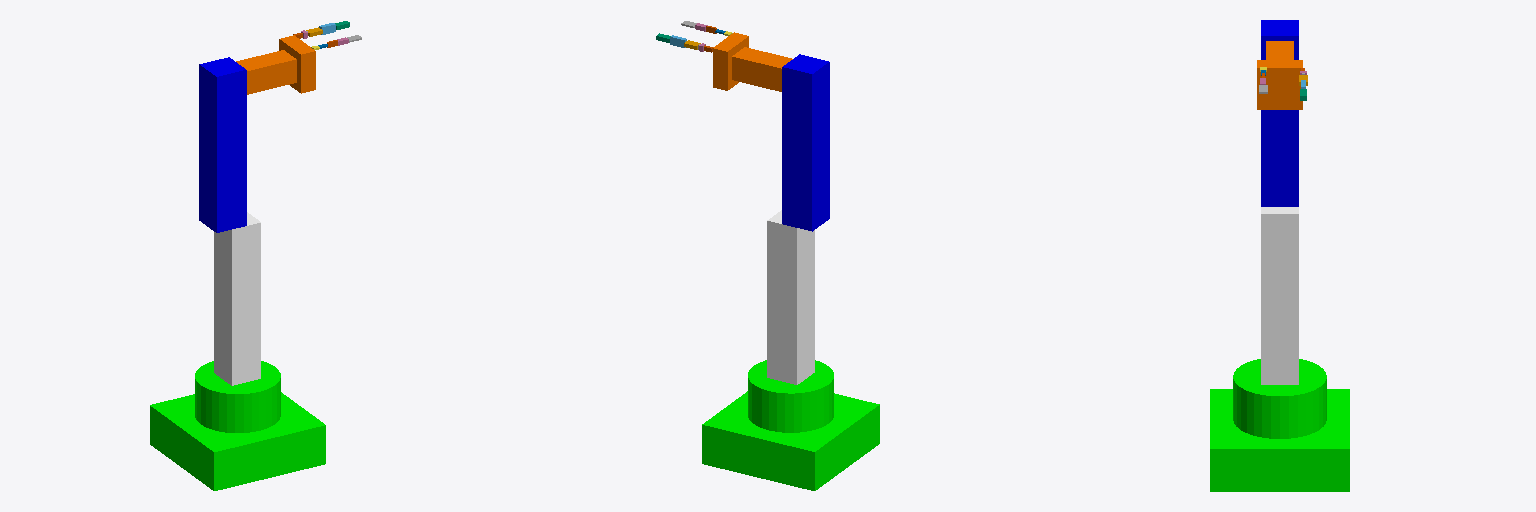
URDF robot description (robot):
<?xml version='1.0' encoding='utf-8'?>
<robot name="robot">
  <link name="base_link">
    <visual>
      <origin xyz="0 0 0.125" rpy="0 0 0" />
      <geometry>
        <box size="0.75 0.75 0.25" />
      </geometry>
      <material name="green" />
    </visual>
    <visual>
      <origin xyz="0 0 0.375" rpy="0 0 0" />
      <geometry>
        <cylinder length="0.25" radius="0.25" />
      </geometry>
      <material name="green">
        <color rgba="0 1 0 1" />
      </material>
    </visual>
    <collision>
      <geometry>
        <box size="0.75 0.75 0.5" />
      </geometry>
    </collision>
    <inertial>
      <mass value="0.5" />
      <inertia ixx="0.034" ixy="0.0" ixz="0.0" iyy="0.034" iyz="0.0" izz="0.034" />
    </inertial>
  </link>
  <link name="support_link">
    <visual>
      <origin xyz="0 0 0.5" rpy="0 0 0" />
      <geometry>
        <box size="0.2 0.2 1" />
      </geometry>
      <material name="white">
        <color rgba="1 1 1 1" />
      </material>
    </visual>
    <collision>
      <geometry>
        <box size="0.2 0.2 1" />
      </geometry>
    </collision>
    <inertial>
      <mass value="0.1" />
      <inertia ixx="0.01" ixy="0.0" ixz="0.0" iyy="0.01" iyz="0.0" izz="0.01" />
    </inertial>
  </link>
  <joint name="support_joint" type="continuous">
    <origin xyz="0 0 0.5" rpy="0 0 0" />
    <parent link="base_link" />
    <child link="support_link" />
    <axis xyz="0 0 1" />
  </joint>
  <link name="arm_link">
    <visual>
      <origin xyz="0 0 0.5" rpy="0 0 0" />
      <geometry>
        <box size="0.2 0.2 1" />
      </geometry>
      <material name="blue">
        <color rgba="0 0 1 1" />
      </material>
    </visual>
    <collision>
      <geometry>
        <box size="0.2 0.2 1" />
      </geometry>
    </collision>
    <inertial>
      <mass value="0.1" />
      <inertia ixx="0.01" ixy="0.0" ixz="0.0" iyy="0.01" iyz="0.0" izz="0.01" />
    </inertial>
  </link>
  <joint name="arm_joint" type="revolute">
    <origin xyz="-0.1 0 1" rpy="0 0 0" />
    <parent link="support_link" />
    <child link="arm_link" />
    <axis xyz="0 1 0" />
    <limit lower="-3.14" upper="3.14" effort="1.0" velocity="1.0" />
  </joint>
  <link name="wrist_link">
    <visual>
      <origin xyz="0 0 0.25" rpy="0 0 0" />
      <geometry>
        <box size="0.15 0.15 0.5" />
      </geometry>
      <material name="orange">
        <color rgba="1 0.5 0 1" />
      </material>
    </visual>
    <collision>
      <geometry>
        <box size="0.15 0.15 0.5" />
      </geometry>
    </collision>
    <inertial>
      <mass value="0.1" />
      <inertia ixx="0.01" ixy="0.0" ixz="0.0" iyy="0.01" iyz="0.0" izz="0.01" />
    </inertial>
  </link>
  <joint name="wrist_joint" type="fixed">
    <origin xyz="0 0 0.9" rpy="0 1.571 0" />
    <parent link="arm_link" />
    <child link="wrist_link" />
  </joint>
  <link name="palm_link">
    <visual>
      <origin xyz="0 0 0.05" rpy="0 0 0" />
      <geometry>
        <box size="0.25 0.25 0.1" />
      </geometry>
      <material name="orange" />
    </visual>
    <collision>
      <geometry>
        <box size="0.25 0.25 0.1" />
      </geometry>
    </collision>
    <inertial>
      <mass value="0.1" />
      <inertia ixx="0.01" ixy="0.0" ixz="0.0" iyy="0.01" iyz="0.0" izz="0.01" />
    </inertial>
  </link>
  <joint name="palm_joint" type="fixed">
    <origin xyz="0 0 0.45" rpy="0 0 0" />
    <parent link="wrist_link" />
    <child link="palm_link" />
  </joint>
  <link name="finger_link_0_0">
    <visual>
      <origin xyz="0 0 0.0265" rpy="0 0 0" />
      <geometry>
        <box size="0.026 0.021 0.053" />
      </geometry>
    </visual>
    <collision>
      <geometry>
        <box size="0.026 0.021 0.053" />
      </geometry>
    </collision>
    <inertial>
      <mass value="0.009" />
      <inertia ixx="0.0" iyy="0.0" izz="0.0" ixy="0" ixz="0" iyz="0" />
    </inertial>
  </link>
  <joint name="finger_joint_palm_link_to_finger_link_0_0" type="revolute">
    <origin xyz="-0.113 0.125 0.1" rpy="0 0 0" />
    <parent link="palm_link" />
    <child link="finger_link_0_0" />
    <axis xyz="-1.0 0.0 0.0" />
    <limit lower="-3.142" upper="3.142" effort="10" velocity="10" />
  </joint>
  <link name="finger_link_0_1">
    <visual>
      <origin xyz="0 0 0.0125" rpy="0 0 0" />
      <geometry>
        <box size="0.037 0.038 0.025" />
      </geometry>
    </visual>
    <collision>
      <geometry>
        <box size="0.037 0.038 0.025" />
      </geometry>
    </collision>
    <inertial>
      <mass value="0.011" />
      <inertia ixx="0.0" iyy="0.0" izz="0.0" ixy="0" ixz="0" iyz="0" />
    </inertial>
  </link>
  <joint name="finger_joint_finger_link_0_0_to_finger_link_0_1" type="revolute">
    <origin xyz="0.0 0.0 0.053" rpy="0 0 0" />
    <parent link="finger_link_0_0" />
    <child link="finger_link_0_1" />
    <axis xyz="1.0 0.0 0.0" />
    <limit lower="-3.142" upper="3.142" effort="10" velocity="10" />
  </joint>
  <link name="finger_link_0_2">
    <visual>
      <origin xyz="0 0 0.0055" rpy="0 0 0" />
      <geometry>
        <box size="0.033 0.019 0.011" />
      </geometry>
    </visual>
    <collision>
      <geometry>
        <box size="0.033 0.019 0.011" />
      </geometry>
    </collision>
    <inertial>
      <mass value="0.002" />
      <inertia ixx="0.0" iyy="0.0" izz="0.0" ixy="0" ixz="0" iyz="0" />
    </inertial>
  </link>
  <joint name="finger_joint_finger_link_0_1_to_finger_link_0_2" type="revolute">
    <origin xyz="0.0 0.0 0.025" rpy="0 0 0" />
    <parent link="finger_link_0_1" />
    <child link="finger_link_0_2" />
    <axis xyz="0.0 1.0 0.0" />
    <limit lower="-3.142" upper="3.142" effort="10" velocity="10" />
  </joint>
  <link name="finger_link_0_3">
    <visual>
      <origin xyz="0 0 0.0435" rpy="0 0 0" />
      <geometry>
        <box size="0.024 0.049 0.087" />
      </geometry>
    </visual>
    <collision>
      <geometry>
        <box size="0.024 0.049 0.087" />
      </geometry>
    </collision>
    <inertial>
      <mass value="0.031" />
      <inertia ixx="0.0" iyy="0.0" izz="0.0" ixy="0" ixz="0" iyz="0" />
    </inertial>
  </link>
  <joint name="finger_joint_finger_link_0_2_to_finger_link_0_3" type="revolute">
    <origin xyz="0.0 0.0 0.011" rpy="0 0 0" />
    <parent link="finger_link_0_2" />
    <child link="finger_link_0_3" />
    <axis xyz="0.0 1.0 0.0" />
    <limit lower="-3.142" upper="3.142" effort="10" velocity="10" />
  </joint>
  <link name="finger_link_0_4">
    <visual>
      <origin xyz="0 0 0.0485" rpy="0 0 0" />
      <geometry>
        <box size="0.05 0.027 0.097" />
      </geometry>
    </visual>
    <collision>
      <geometry>
        <box size="0.05 0.027 0.097" />
      </geometry>
    </collision>
    <inertial>
      <mass value="0.039" />
      <inertia ixx="0.0" iyy="0.0" izz="0.0" ixy="0" ixz="0" iyz="0" />
    </inertial>
  </link>
  <joint name="finger_joint_finger_link_0_3_to_finger_link_0_4" type="revolute">
    <origin xyz="0.0 0.0 0.087" rpy="0 0 0" />
    <parent link="finger_link_0_3" />
    <child link="finger_link_0_4" />
    <axis xyz="0.0 1.0 0.0" />
    <limit lower="-3.142" upper="3.142" effort="10" velocity="10" />
  </joint>
  <link name="finger_link_0_5">
    <visual>
      <origin xyz="0 0 0.0455" rpy="0 0 0" />
      <geometry>
        <box size="0.027 0.04 0.091" />
      </geometry>
    </visual>
    <collision>
      <geometry>
        <box size="0.027 0.04 0.091" />
      </geometry>
    </collision>
    <inertial>
      <mass value="0.029" />
      <inertia ixx="0.0" iyy="0.0" izz="0.0" ixy="0" ixz="0" iyz="0" />
    </inertial>
  </link>
  <joint name="finger_joint_finger_link_0_4_to_finger_link_0_5" type="revolute">
    <origin xyz="0.0 0.0 0.097" rpy="0 0 0" />
    <parent link="finger_link_0_4" />
    <child link="finger_link_0_5" />
    <axis xyz="0.0 1.0 0.0" />
    <limit lower="-3.142" upper="3.142" effort="10" velocity="10" />
  </joint>
  <link name="finger_link_1_0">
    <visual>
      <origin xyz="0 0 0.0195" rpy="0 0 0" />
      <geometry>
        <box size="0.011 0.035 0.039" />
      </geometry>
    </visual>
    <collision>
      <geometry>
        <box size="0.011 0.035 0.039" />
      </geometry>
    </collision>
    <inertial>
      <mass value="0.005" />
      <inertia ixx="0.0" iyy="0.0" izz="0.0" ixy="0" ixz="0" iyz="0" />
    </inertial>
  </link>
  <joint name="finger_joint_palm_link_to_finger_link_1_0" type="revolute">
    <origin xyz="-0.125 -0.089 0.1" rpy="0 0 0" />
    <parent link="palm_link" />
    <child link="finger_link_1_0" />
    <axis xyz="0.0 -1.0 0.0" />
    <limit lower="-3.142" upper="3.142" effort="10" velocity="10" />
  </joint>
  <link name="finger_link_1_1">
    <visual>
      <origin xyz="0 0 0.029" rpy="0 0 0" />
      <geometry>
        <box size="0.011 0.027 0.058" />
      </geometry>
    </visual>
    <collision>
      <geometry>
        <box size="0.011 0.027 0.058" />
      </geometry>
    </collision>
    <inertial>
      <mass value="0.005" />
      <inertia ixx="0.0" iyy="0.0" izz="0.0" ixy="0" ixz="0" iyz="0" />
    </inertial>
  </link>
  <joint name="finger_joint_finger_link_1_0_to_finger_link_1_1" type="revolute">
    <origin xyz="0.0 0.0 0.039" rpy="0 0 0" />
    <parent link="finger_link_1_0" />
    <child link="finger_link_1_1" />
    <axis xyz="0.0 1.0 0.0" />
    <limit lower="-3.142" upper="3.142" effort="10" velocity="10" />
  </joint>
  <link name="finger_link_1_2">
    <visual>
      <origin xyz="0 0 0.0325" rpy="0 0 0" />
      <geometry>
        <box size="0.035 0.013 0.065" />
      </geometry>
    </visual>
    <collision>
      <geometry>
        <box size="0.035 0.013 0.065" />
      </geometry>
    </collision>
    <inertial>
      <mass value="0.009" />
      <inertia ixx="0.0" iyy="0.0" izz="0.0" ixy="0" ixz="0" iyz="0" />
    </inertial>
  </link>
  <joint name="finger_joint_finger_link_1_1_to_finger_link_1_2" type="revolute">
    <origin xyz="0.0 0.0 0.058" rpy="0 0 0" />
    <parent link="finger_link_1_1" />
    <child link="finger_link_1_2" />
    <axis xyz="1.0 0.0 0.0" />
    <limit lower="-3.142" upper="3.142" effort="10" velocity="10" />
  </joint>
  <link name="finger_link_1_3">
    <visual>
      <origin xyz="0 0 0.0345" rpy="0 0 0" />
      <geometry>
        <box size="0.027 0.032 0.069" />
      </geometry>
    </visual>
    <collision>
      <geometry>
        <box size="0.027 0.032 0.069" />
      </geometry>
    </collision>
    <inertial>
      <mass value="0.018" />
      <inertia ixx="0.0" iyy="0.0" izz="0.0" ixy="0" ixz="0" iyz="0" />
    </inertial>
  </link>
  <joint name="finger_joint_finger_link_1_2_to_finger_link_1_3" type="revolute">
    <origin xyz="0.0 0.0 0.065" rpy="0 0 0" />
    <parent link="finger_link_1_2" />
    <child link="finger_link_1_3" />
    <axis xyz="0.0 1.0 0.0" />
    <limit lower="-3.142" upper="3.142" effort="10" velocity="10" />
  </joint>
  <link name="finger_link_1_4">
    <visual>
      <origin xyz="0 0 0.0435" rpy="0 0 0" />
      <geometry>
        <box size="0.011 0.049 0.087" />
      </geometry>
    </visual>
    <collision>
      <geometry>
        <box size="0.011 0.049 0.087" />
      </geometry>
    </collision>
    <inertial>
      <mass value="0.014" />
      <inertia ixx="0.0" iyy="0.0" izz="0.0" ixy="0" ixz="0" iyz="0" />
    </inertial>
  </link>
  <joint name="finger_joint_finger_link_1_3_to_finger_link_1_4" type="revolute">
    <origin xyz="0.0 0.0 0.069" rpy="0 0 0" />
    <parent link="finger_link_1_3" />
    <child link="finger_link_1_4" />
    <axis xyz="0.0 1.0 0.0" />
    <limit lower="-3.142" upper="3.142" effort="10" velocity="10" />
  </joint>
</robot>

--- Render facts (derived) ---
3 views of the same robot in one strip: view 1: azimuth 30°, elevation 25°; view 2: azimuth 150°, elevation 25°; view 3: azimuth 270°, elevation 25° (orthographic).
Robot: robot — 16 links, 15 joints (12 revolute, 1 continuous, 2 fixed); root link base_link; default pose: all joints at 0.
Links seen in each view (by area): view 1: base_link, arm_link, support_link, wrist_link, palm_link; view 2: base_link, arm_link, support_link, wrist_link, palm_link; view 3: base_link, support_link, arm_link, palm_link, wrist_link.
Boxes of the visible links, <box> form: base_link: <box>150,361,325,490</box>; arm_link: <box>199,57,246,232</box>; support_link: <box>214,212,260,385</box>; wrist_link: <box>236,50,296,94</box>; palm_link: <box>279,35,315,93</box>; base_link: <box>702,360,879,490</box>; arm_link: <box>782,54,829,231</box>; support_link: <box>767,210,814,384</box>; wrist_link: <box>732,47,792,91</box>; palm_link: <box>713,32,748,90</box>; base_link: <box>1210,359,1349,491</box>; support_link: <box>1261,207,1298,384</box>; arm_link: <box>1261,20,1298,206</box>; palm_link: <box>1257,60,1302,109</box>; wrist_link: <box>1266,41,1293,59</box>.
Bounding box of the posed robot: 1.19 × 0.75 × 2.54 m (x, y, z).
Geometry: primitives only (box / cylinder / sphere), no mesh files.